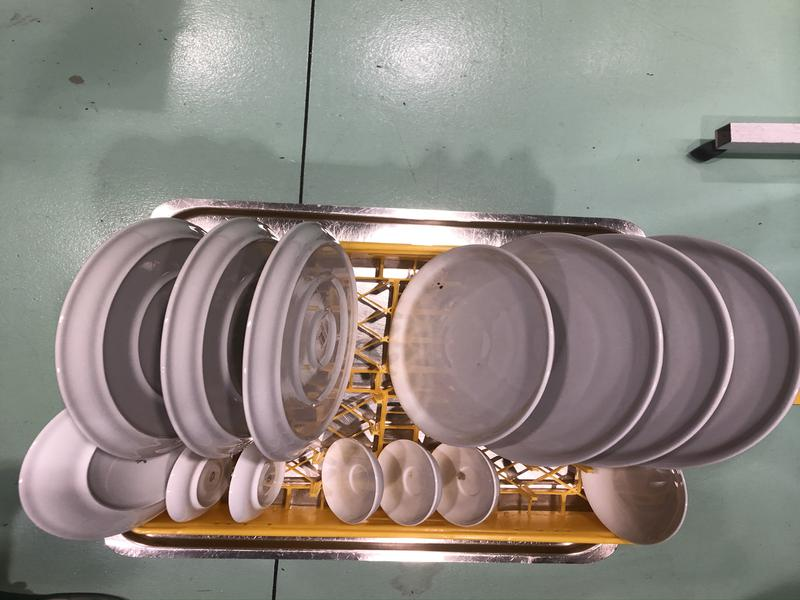Dish: (579, 234, 738, 470), (504, 234, 660, 468), (661, 230, 800, 471), (390, 245, 551, 447), (574, 466, 689, 546), (430, 445, 497, 527), (379, 439, 439, 528), (324, 437, 381, 525)
Inclined_dish: (55, 214, 203, 462), (154, 217, 269, 458), (237, 222, 353, 458), (19, 407, 169, 539), (226, 443, 289, 522), (165, 447, 229, 523)
